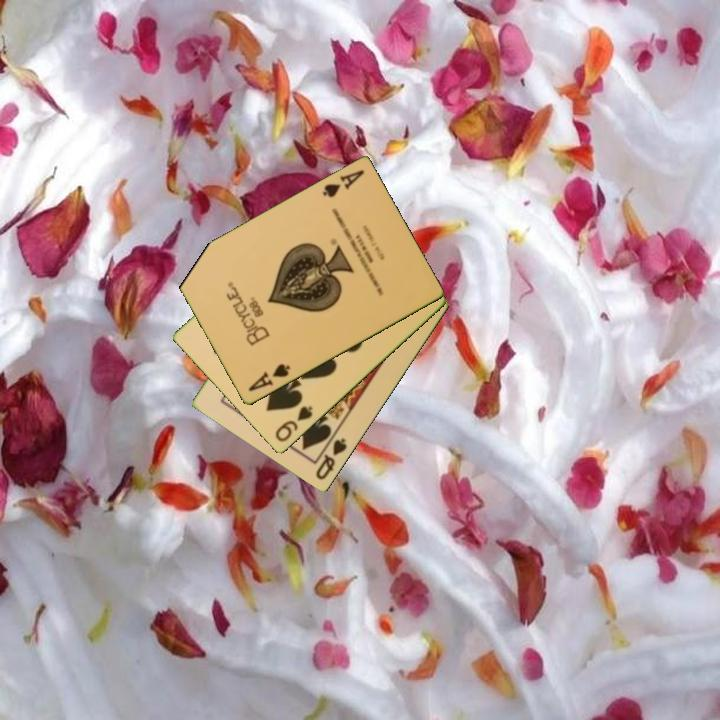9s: (272, 403, 316, 445)
As: (245, 360, 293, 395), (319, 167, 367, 201)
Qs: (312, 435, 350, 483)
